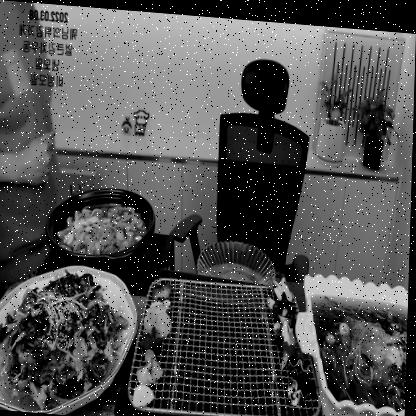streamer: (0, 0, 69, 285)
